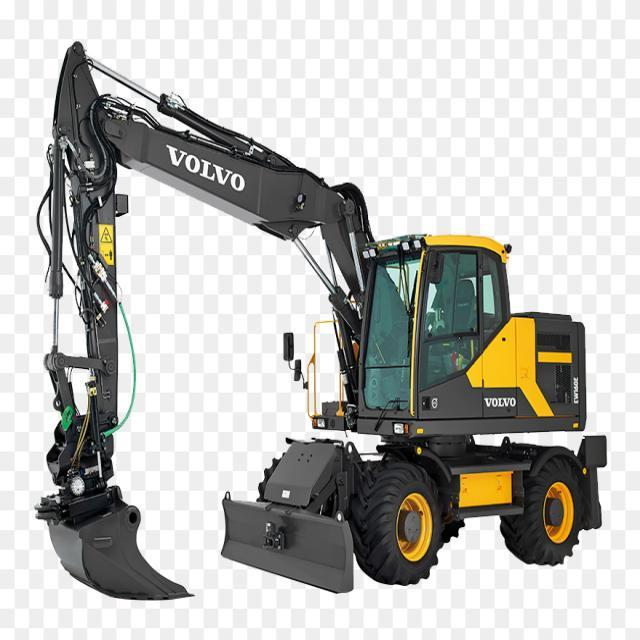C_E: (35, 40, 608, 603)
